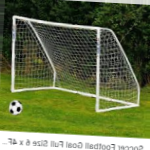goals: (10, 13, 141, 113)
